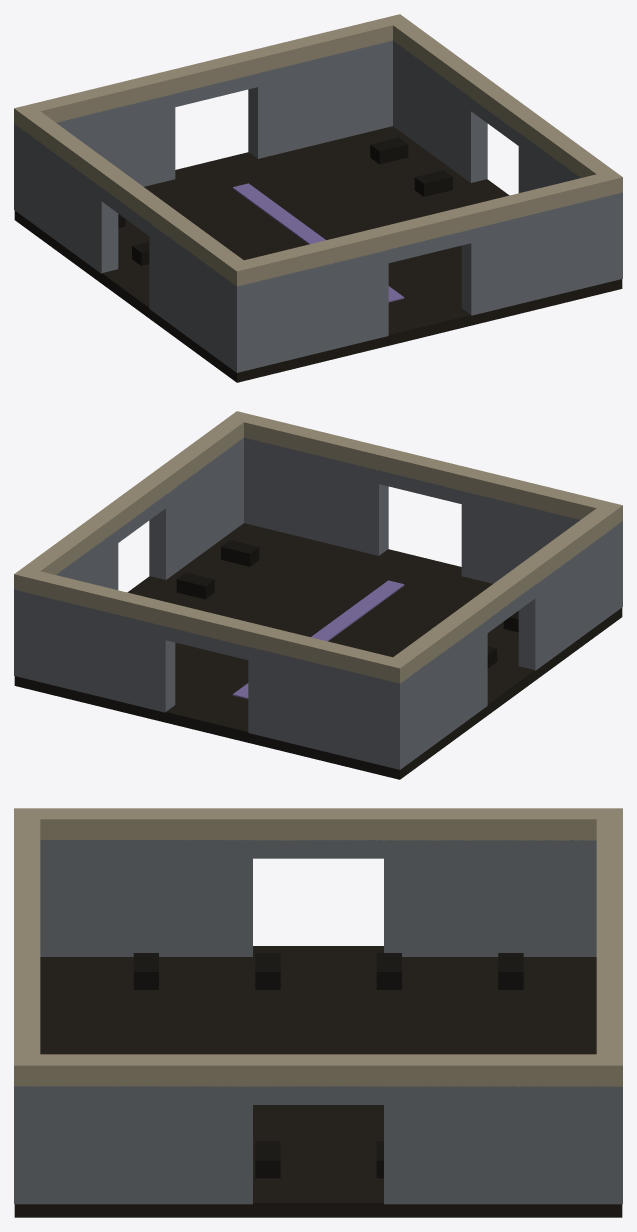
File: TombCorridor.fbx
The picture shows the model from 3 angles, top to bottom: view 1: azimuth 30°, elevation 25°; view 2: azimuth 150°, elevation 25°; view 3: azimuth 270°, elevation 25°; orthographic projection. The views are drawn at different scales.
Parts seen in each view (by area): view 1: TombCorridor; view 2: TombCorridor; view 3: TombCorridor.
Part boxes in pixels (box(x1,y1,x2,y2)): TombCorridor: box(14, 14, 622, 382); TombCorridor: box(14, 411, 622, 779); TombCorridor: box(14, 808, 622, 1217).
Size of the model in its own units: 1202 by 332 by 1202.
Materials: 5 (5 with a texture image).
